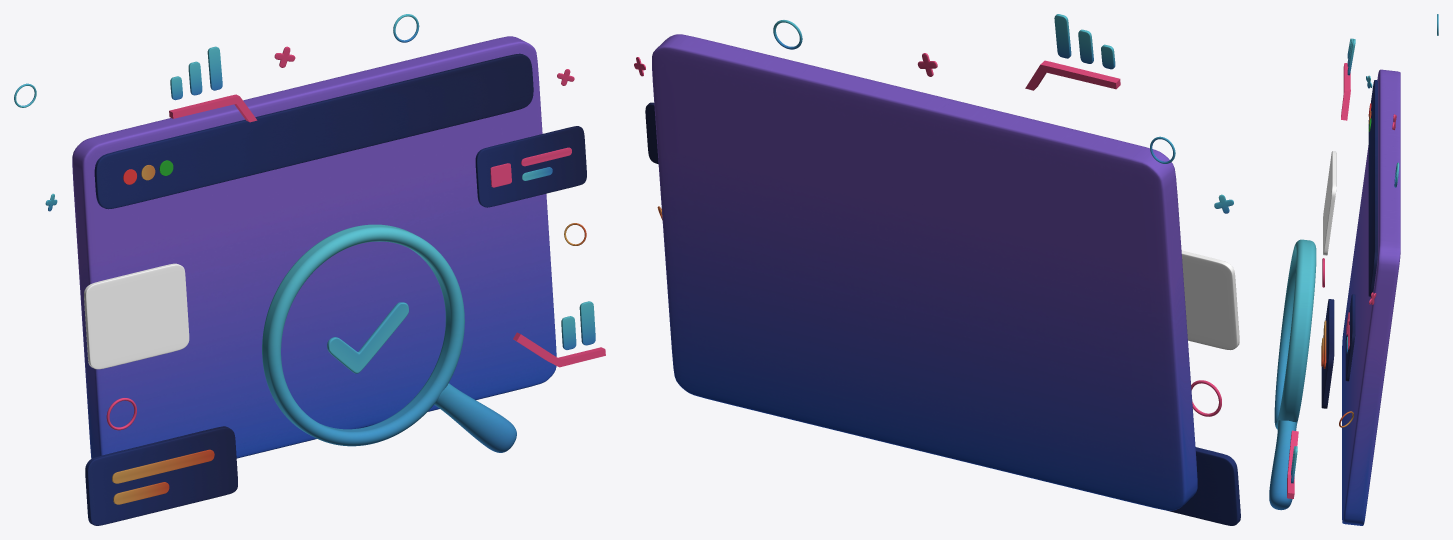
File: indexing-3d-animated-icon-1059779081527.glb
The picture shows the model from 3 angles, left to right: view 1: azimuth 30°, elevation 25°; view 2: azimuth 150°, elevation 25°; view 3: azimuth 270°, elevation 25°; orthographic projection. The views are drawn at different scales.
Parts seen in each view (by area): view 1: Cube, Cube.001, Magnifying Glass, Cube.005, Frame 1, Frame 2, Magnifying Glass.001, Frame 1.001, Cube.019, Cube.002, Frame 1.002; view 2: Cube, Cube.005, Frame 1, Cube.002; view 3: Cube, Magnifying Glass, Cube.001, Frame 1, Cube.005, Frame 2, Cube.019, Cube.002.
Boxes of the visible parts, x1,y1,x2,y2 form: Cube: (72,36,556,458); Cube.001: (94,53,533,209); Magnifying Glass: (262,224,516,452); Cube.005: (84,263,189,369); Frame 1: (85,426,237,525); Frame 2: (475,126,586,207); Magnifying Glass.001: (327,302,408,373); Frame 1.001: (112,449,214,483); Cube.019: (513,332,605,367); Cube.002: (169,94,257,122); Frame 1.002: (113,482,169,504); Cube: (652,34,1197,510); Cube.005: (1181,250,1239,350); Frame 1: (1167,447,1240,525); Cube.002: (1025,60,1120,90); Cube: (1342,69,1400,525); Magnifying Glass: (1269,239,1316,510); Cube.001: (1368,80,1377,296); Frame 1: (1321,299,1334,408); Cube.005: (1323,151,1336,255); Frame 2: (1345,294,1355,381); Cube.019: (1287,430,1298,498); Cube.002: (1341,63,1350,120).
Size of the model in its own units: 6.34 by 4.94 by 2.06.
Materials: 11 (6 with a texture image).
